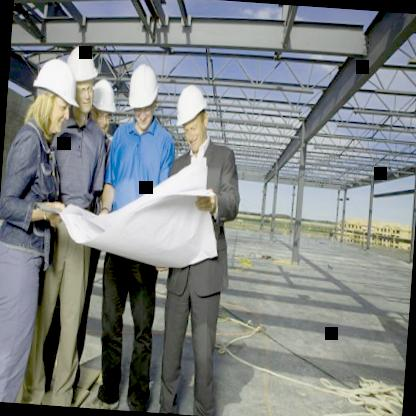helmet: (28, 57, 78, 132), (172, 81, 210, 156), (63, 43, 99, 114), (124, 63, 161, 132), (89, 77, 118, 132)
